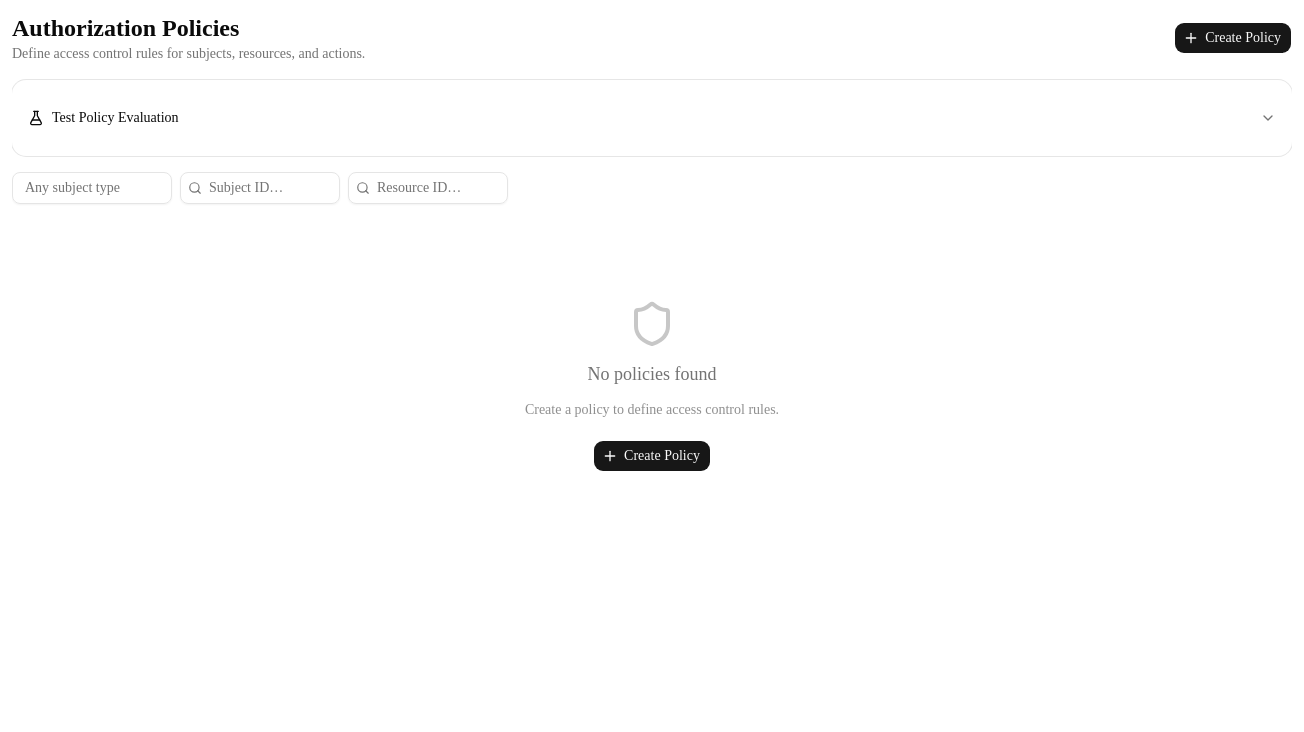
Test case: PoliciesPage › clears stale evaluation results when inputs change
This screenshot has width=1304, height=732.
Step 1. Click the button "Test Policy Evaluation" → click(115, 118), box [12,96,1292,140]
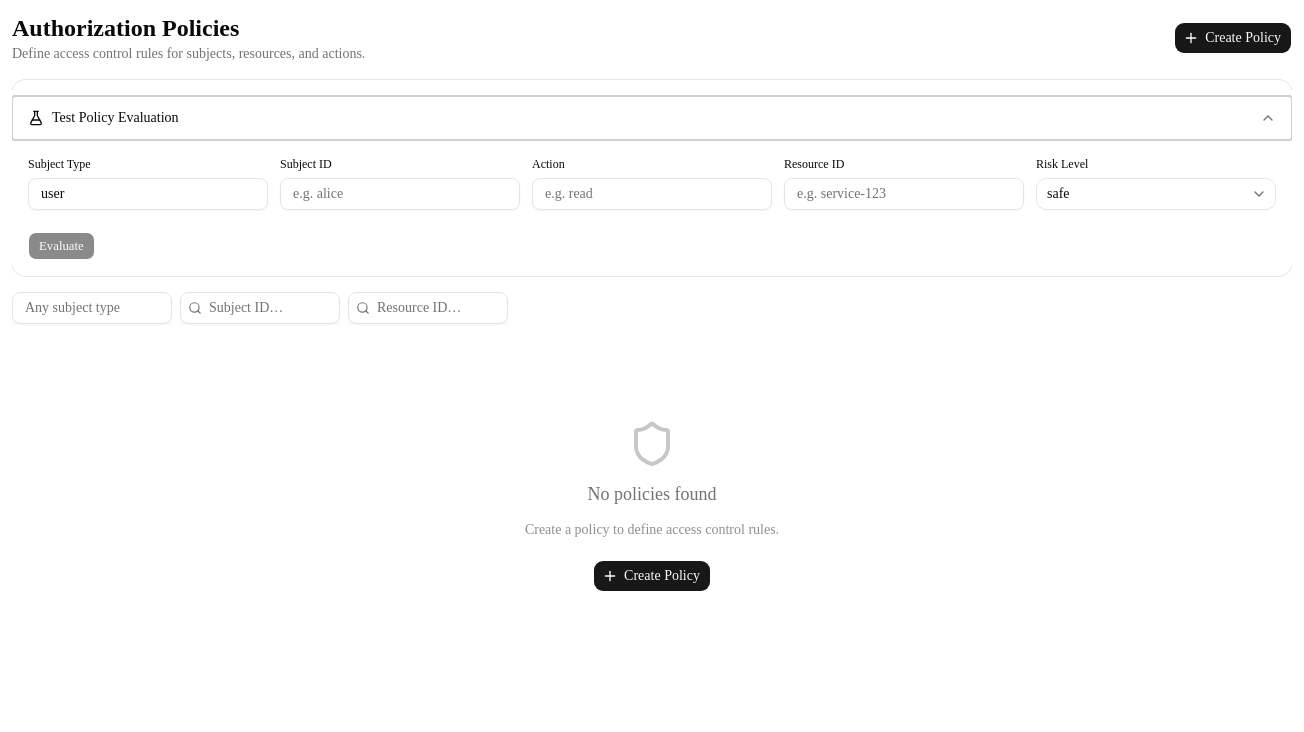
Step 2. Type "alice" into the field with placeholder "e.g. alice" → (400, 194), box [280,178,520,210]
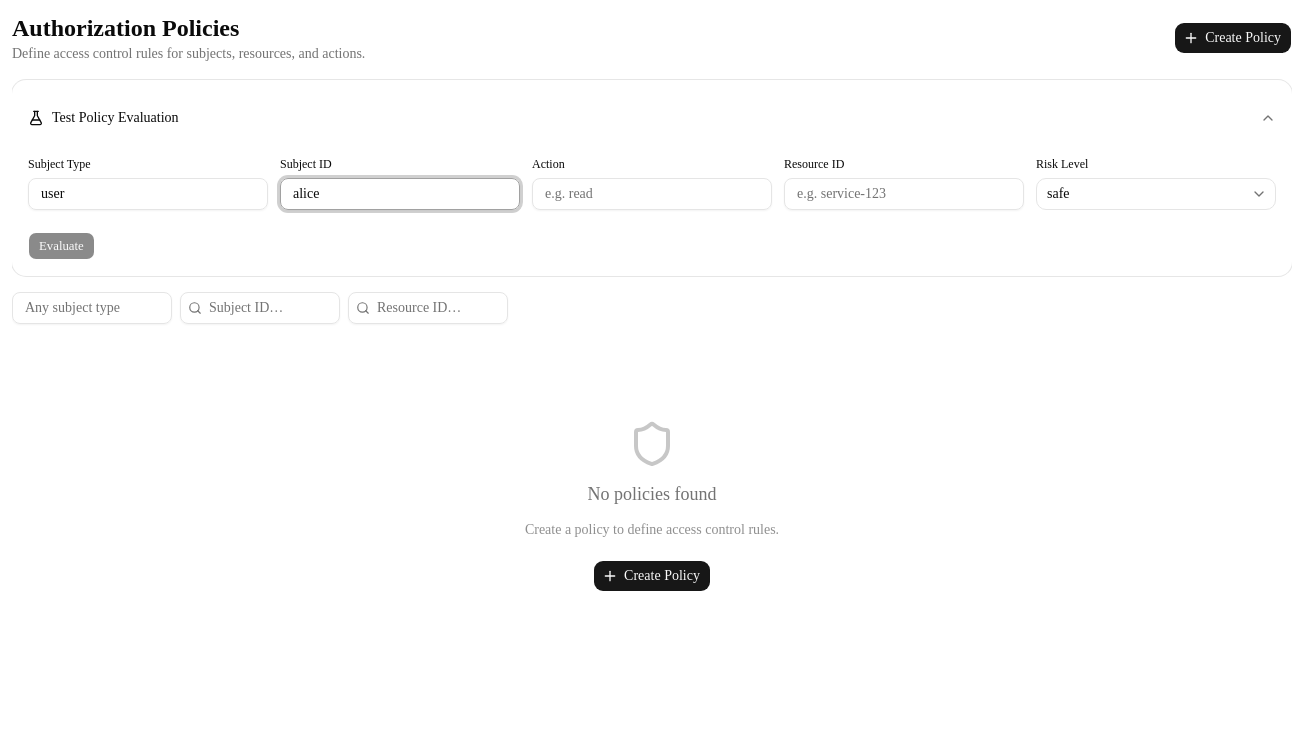
Step 3. Type "read" into the field with placeholder "e.g. read" → (652, 194), box [532,178,772,210]
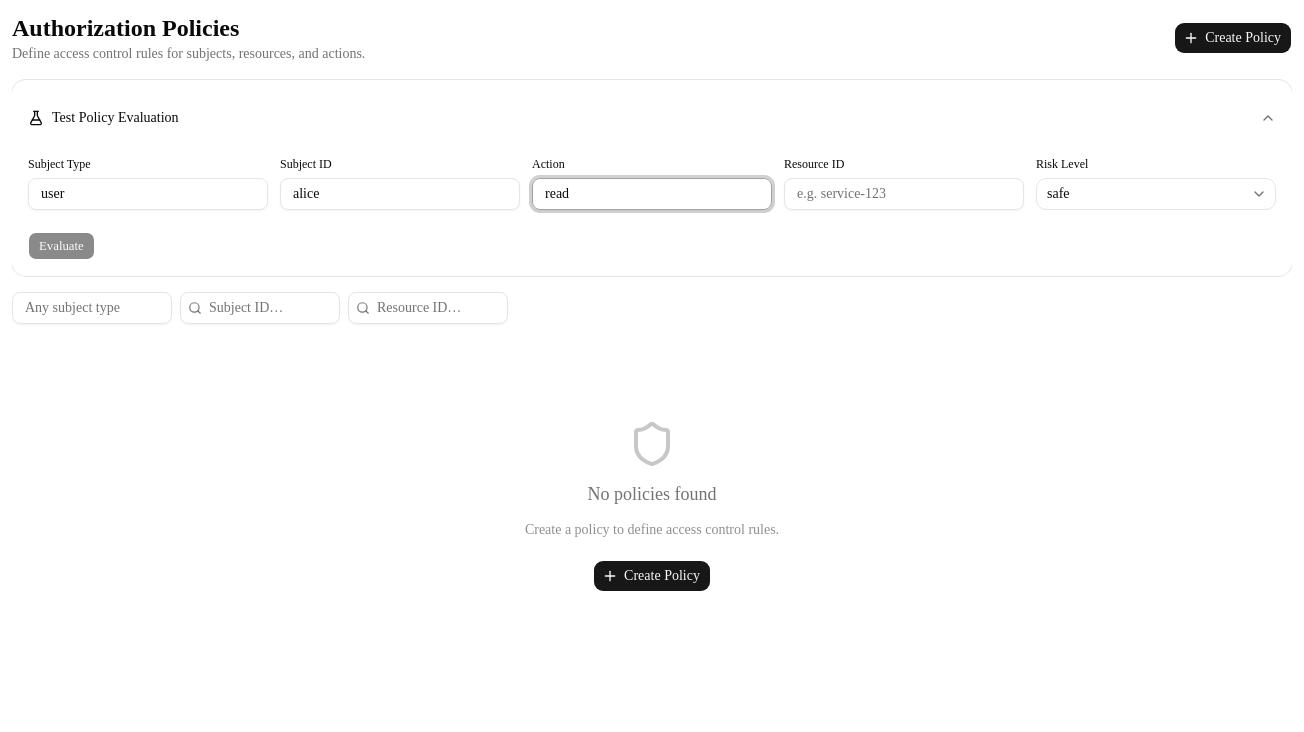
Step 4. Type "svc-1" into the field with placeholder "e.g. service-123" → (904, 194), box [784,178,1024,210]
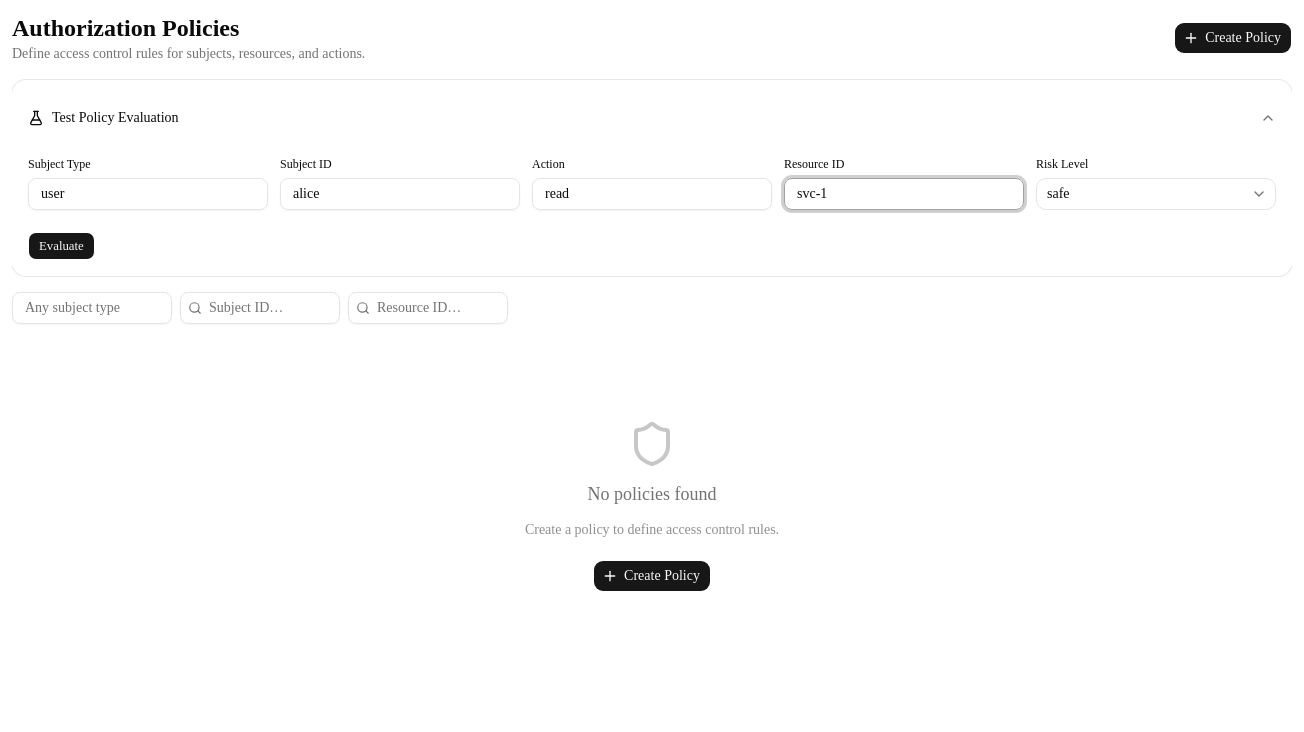
Step 5. Click the button "Evaluate" → click(61, 246), box [28,232,95,260]
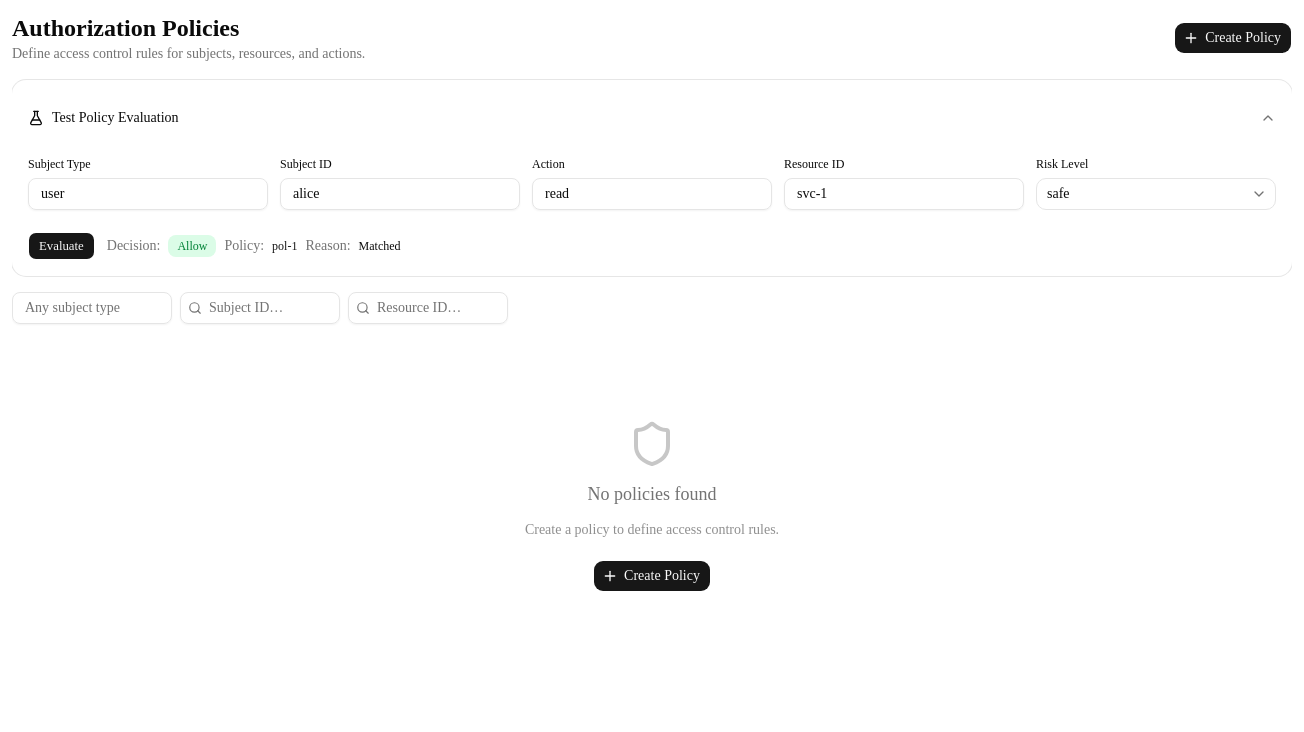
expect the text "Allow" is shown: met, box [168,235,216,257]
Step 6. Type "_all" into the 3rd field with placeholder "e.g. read" → (652, 194), box [532,178,772,210]
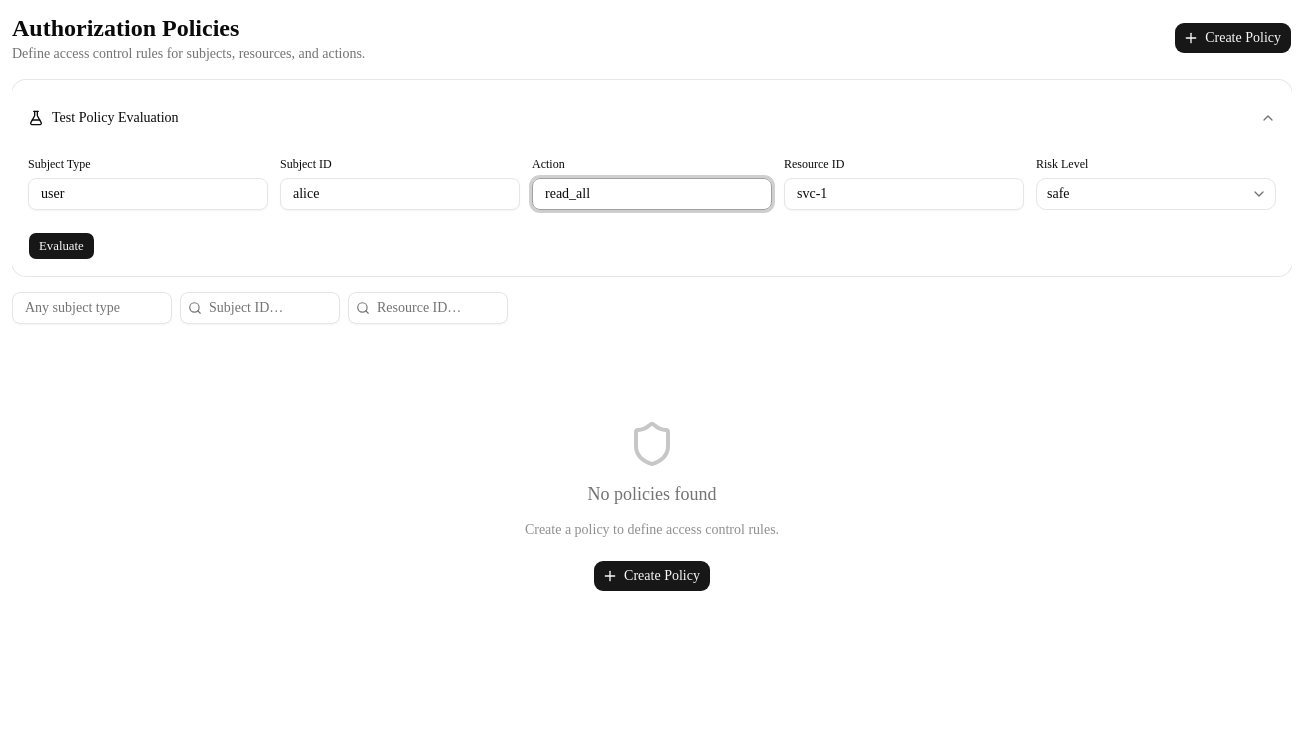
expect the text "Allow" is gone: met
